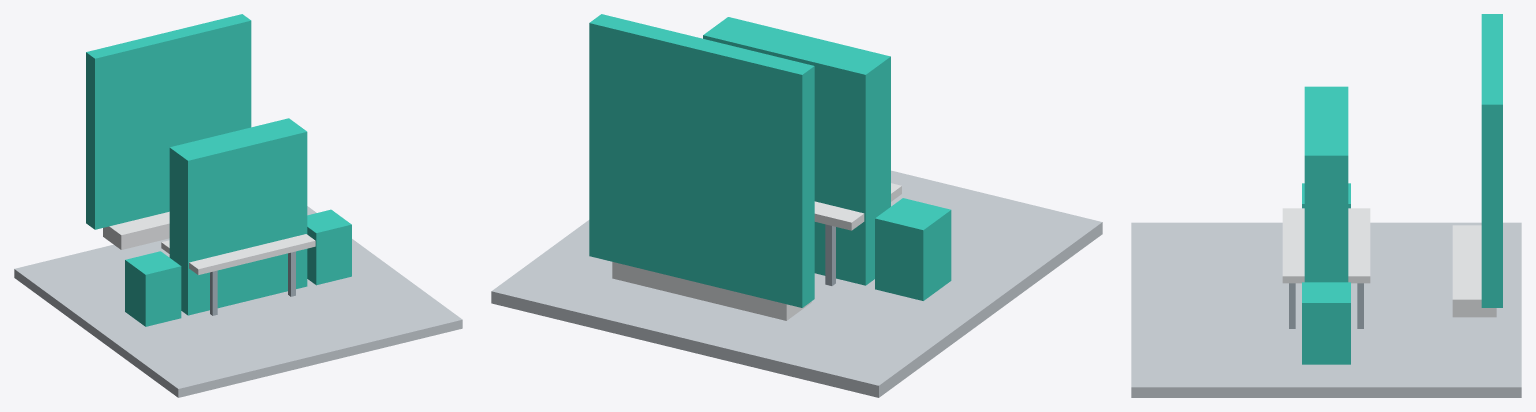
3 views of the same model, side by side, from view 1: azimuth 30°, elevation 25°; view 2: azimuth 150°, elevation 25°; view 3: azimuth 270°, elevation 25° (orthographic). The views are drawn at different scales.
Parts seen in each view (by area): view 1: Exhibition Booth Concept; view 2: Exhibition Booth Concept; view 3: Exhibition Booth Concept.
Boxes of the visible parts, x1,y1,x2,y2 form: Exhibition Booth Concept: (14,14,462,397); Exhibition Booth Concept: (491,14,1102,397); Exhibition Booth Concept: (1131,14,1521,397).
Bounding box in the file's own units: 4 × 2.9 × 4.
